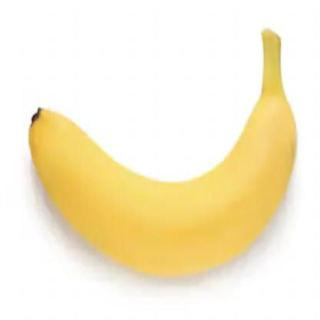banana: (27, 93, 299, 281)
